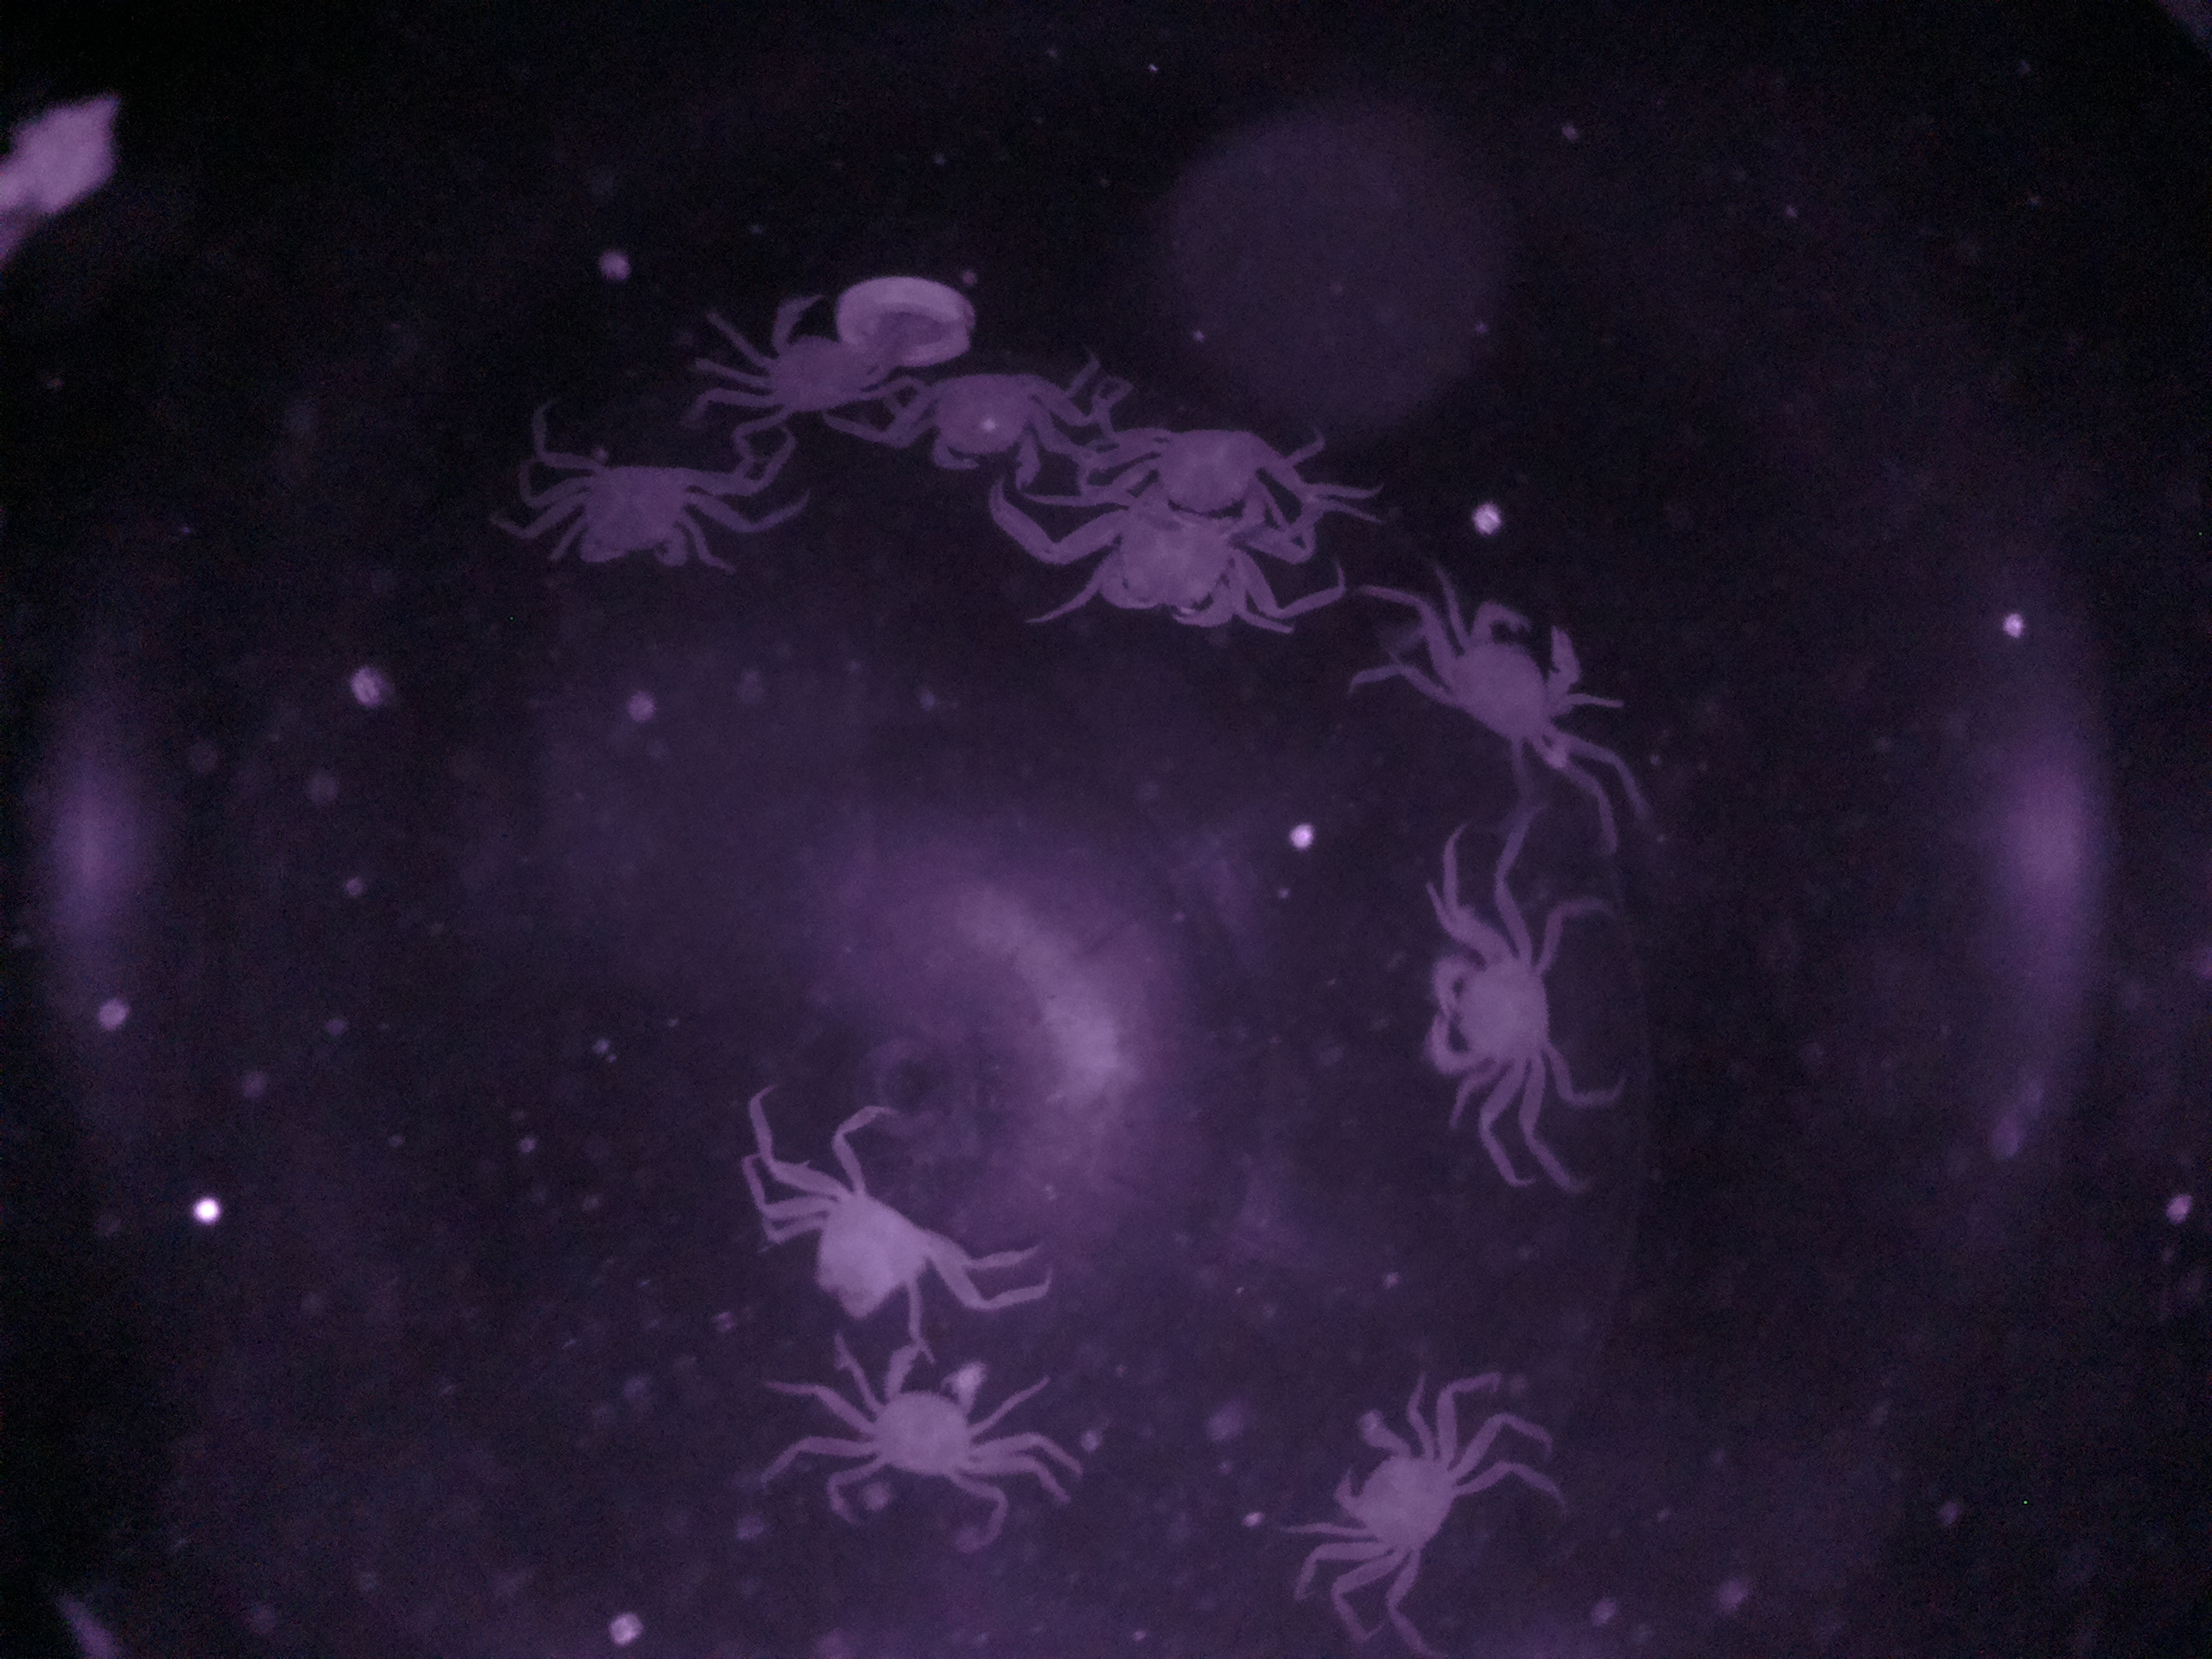Crab: (1303, 1380, 1505, 1589), (1409, 903, 1580, 1115), (826, 1326, 1012, 1513), (1426, 594, 1597, 781), (899, 357, 1076, 497), (557, 443, 721, 584)
